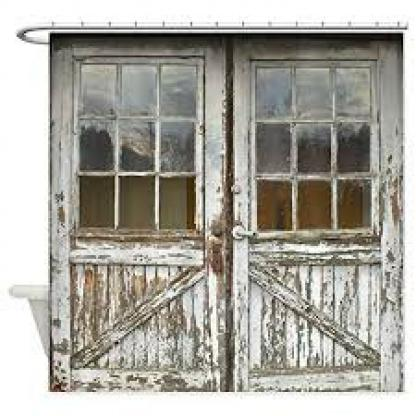door: (52, 33, 401, 385)
